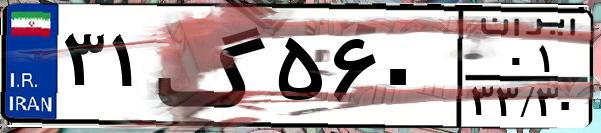0: (385, 28, 445, 110), (560, 70, 590, 125), (508, 27, 537, 80)
1: (110, 28, 156, 98), (537, 27, 568, 80)
3: (57, 26, 110, 100), (470, 70, 495, 125), (495, 70, 520, 125), (535, 70, 560, 125)
5: (270, 28, 330, 110)
6: (330, 28, 385, 110)
گ: (156, 12, 270, 120)
